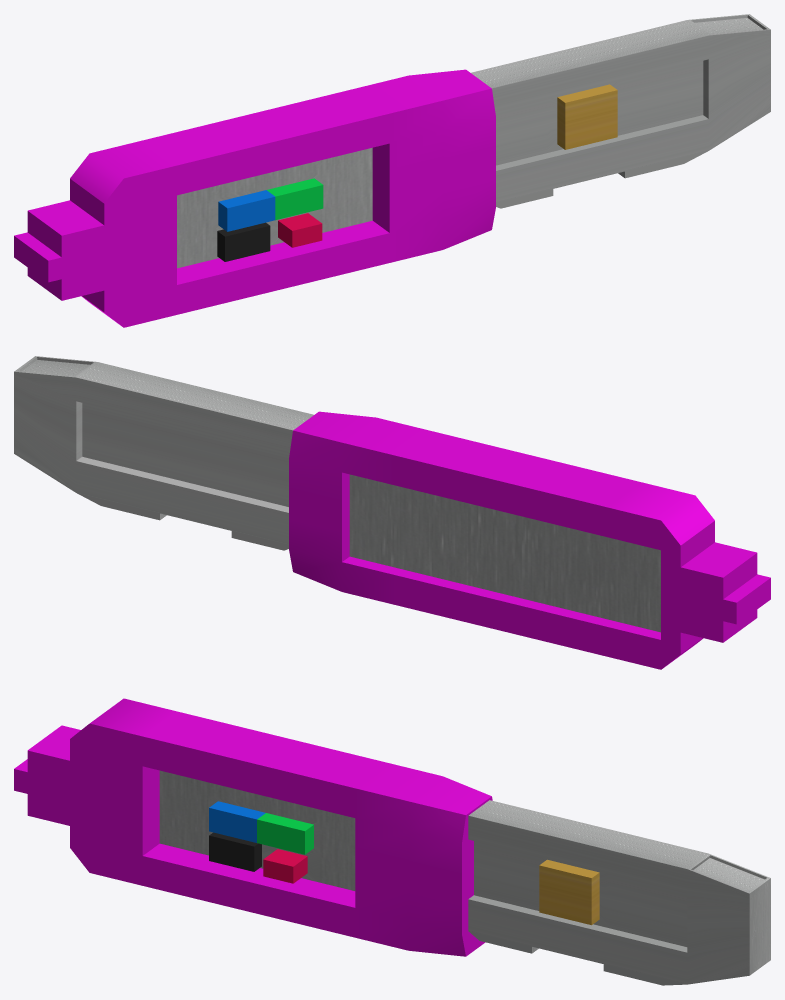
File: key card.fbx
3 renders of one model, top to bottom at view 1: azimuth 30°, elevation 25°; view 2: azimuth 150°, elevation 25°; view 3: azimuth 330°, elevation 25°, orthographic.
Visible parts, largest first — view 1: pCube18; view 2: pCube18; view 3: pCube18.
Part boxes in pixels (x1=…): pCube18: x1=14, y1=14, x2=770, y2=327; pCube18: x1=14, y1=356, x2=770, y2=669; pCube18: x1=14, y1=698, x2=770, y2=985.
Bounding box in the file's own units: 74.45 × 14.57 × 6.06.
Materials: 7 (2 with a texture image).
